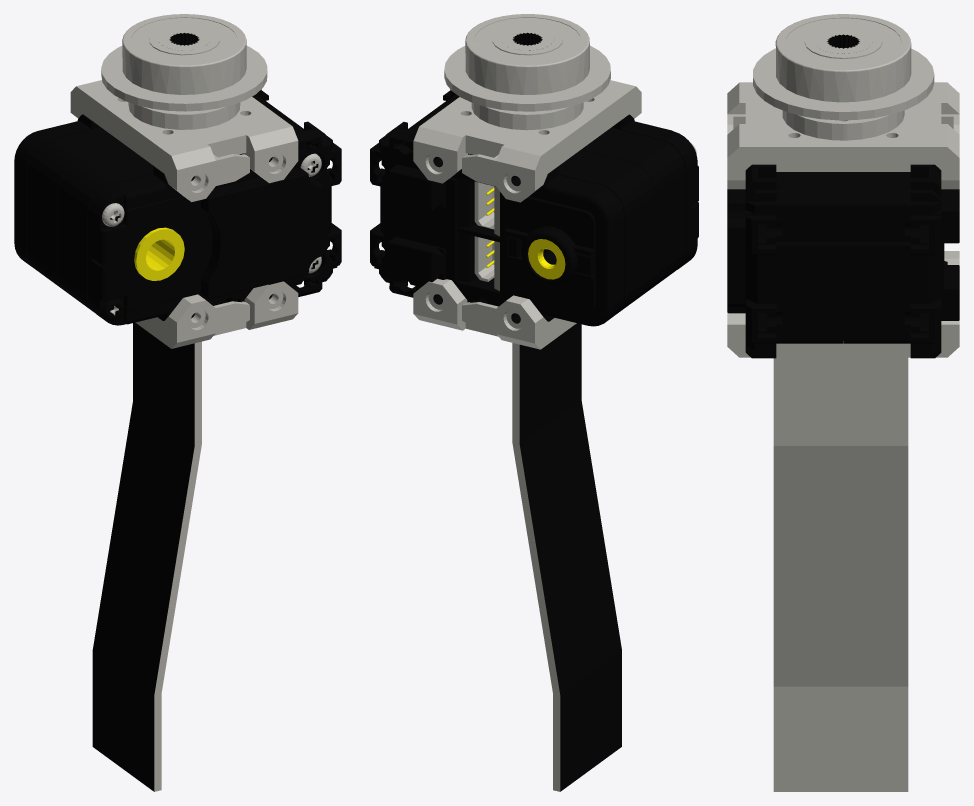
Rendered from yaw_finder_arm_.obj.
The picture shows the model from 3 angles, left to right: view 1: azimuth 30°, elevation 25°; view 2: azimuth 150°, elevation 25°; view 3: azimuth 270°, elevation 25°; orthographic projection. The views are drawn at different scales.
Parts seen in each view (by area): view 1: Object.1; view 2: Object.1; view 3: Object.1.
Boxes of the visible parts, left/top/right/bottom form: Object.1: left=14, top=14, right=341, bottom=791; Object.1: left=370, top=14, right=698, bottom=791; Object.1: left=727, top=14, right=959, bottom=791.
Size of the model in its own units: 50 by 141 by 38.
